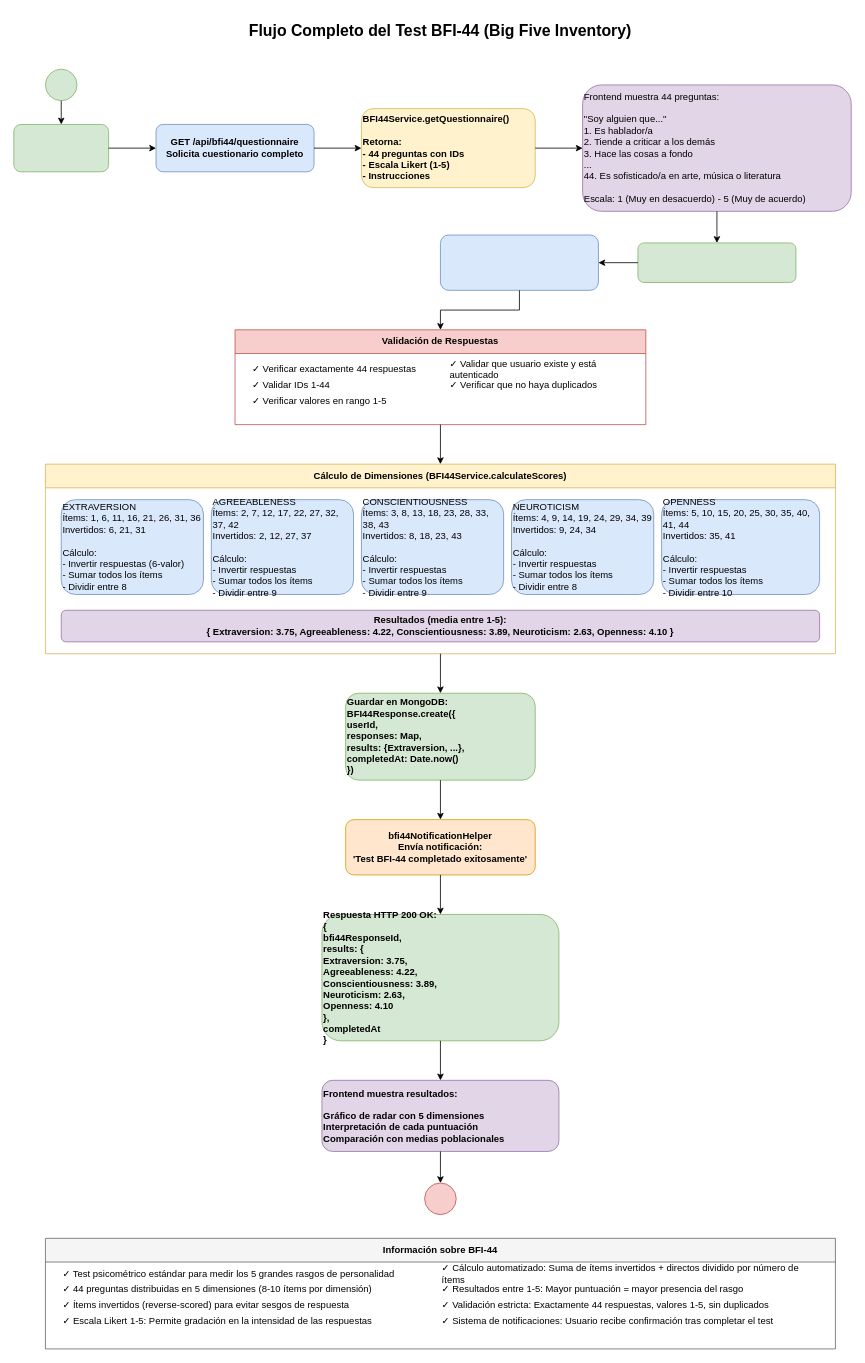
Some shapes in this 865 by 1363 pixel diagram are drawn without their labels. Here are the shapes that lost their labels. From the top down, the centre of each, then its label:
pixel 61 148: Usuario solicita realizar test BFI-44
pixel 519 262: POST /api/bfi44/submit Envía respuestas: { responses: { 1: 4, 2: 2, ... } }
pixel 716 262: Usuario responde las 44 preguntas (selecciona valores 1-5)
